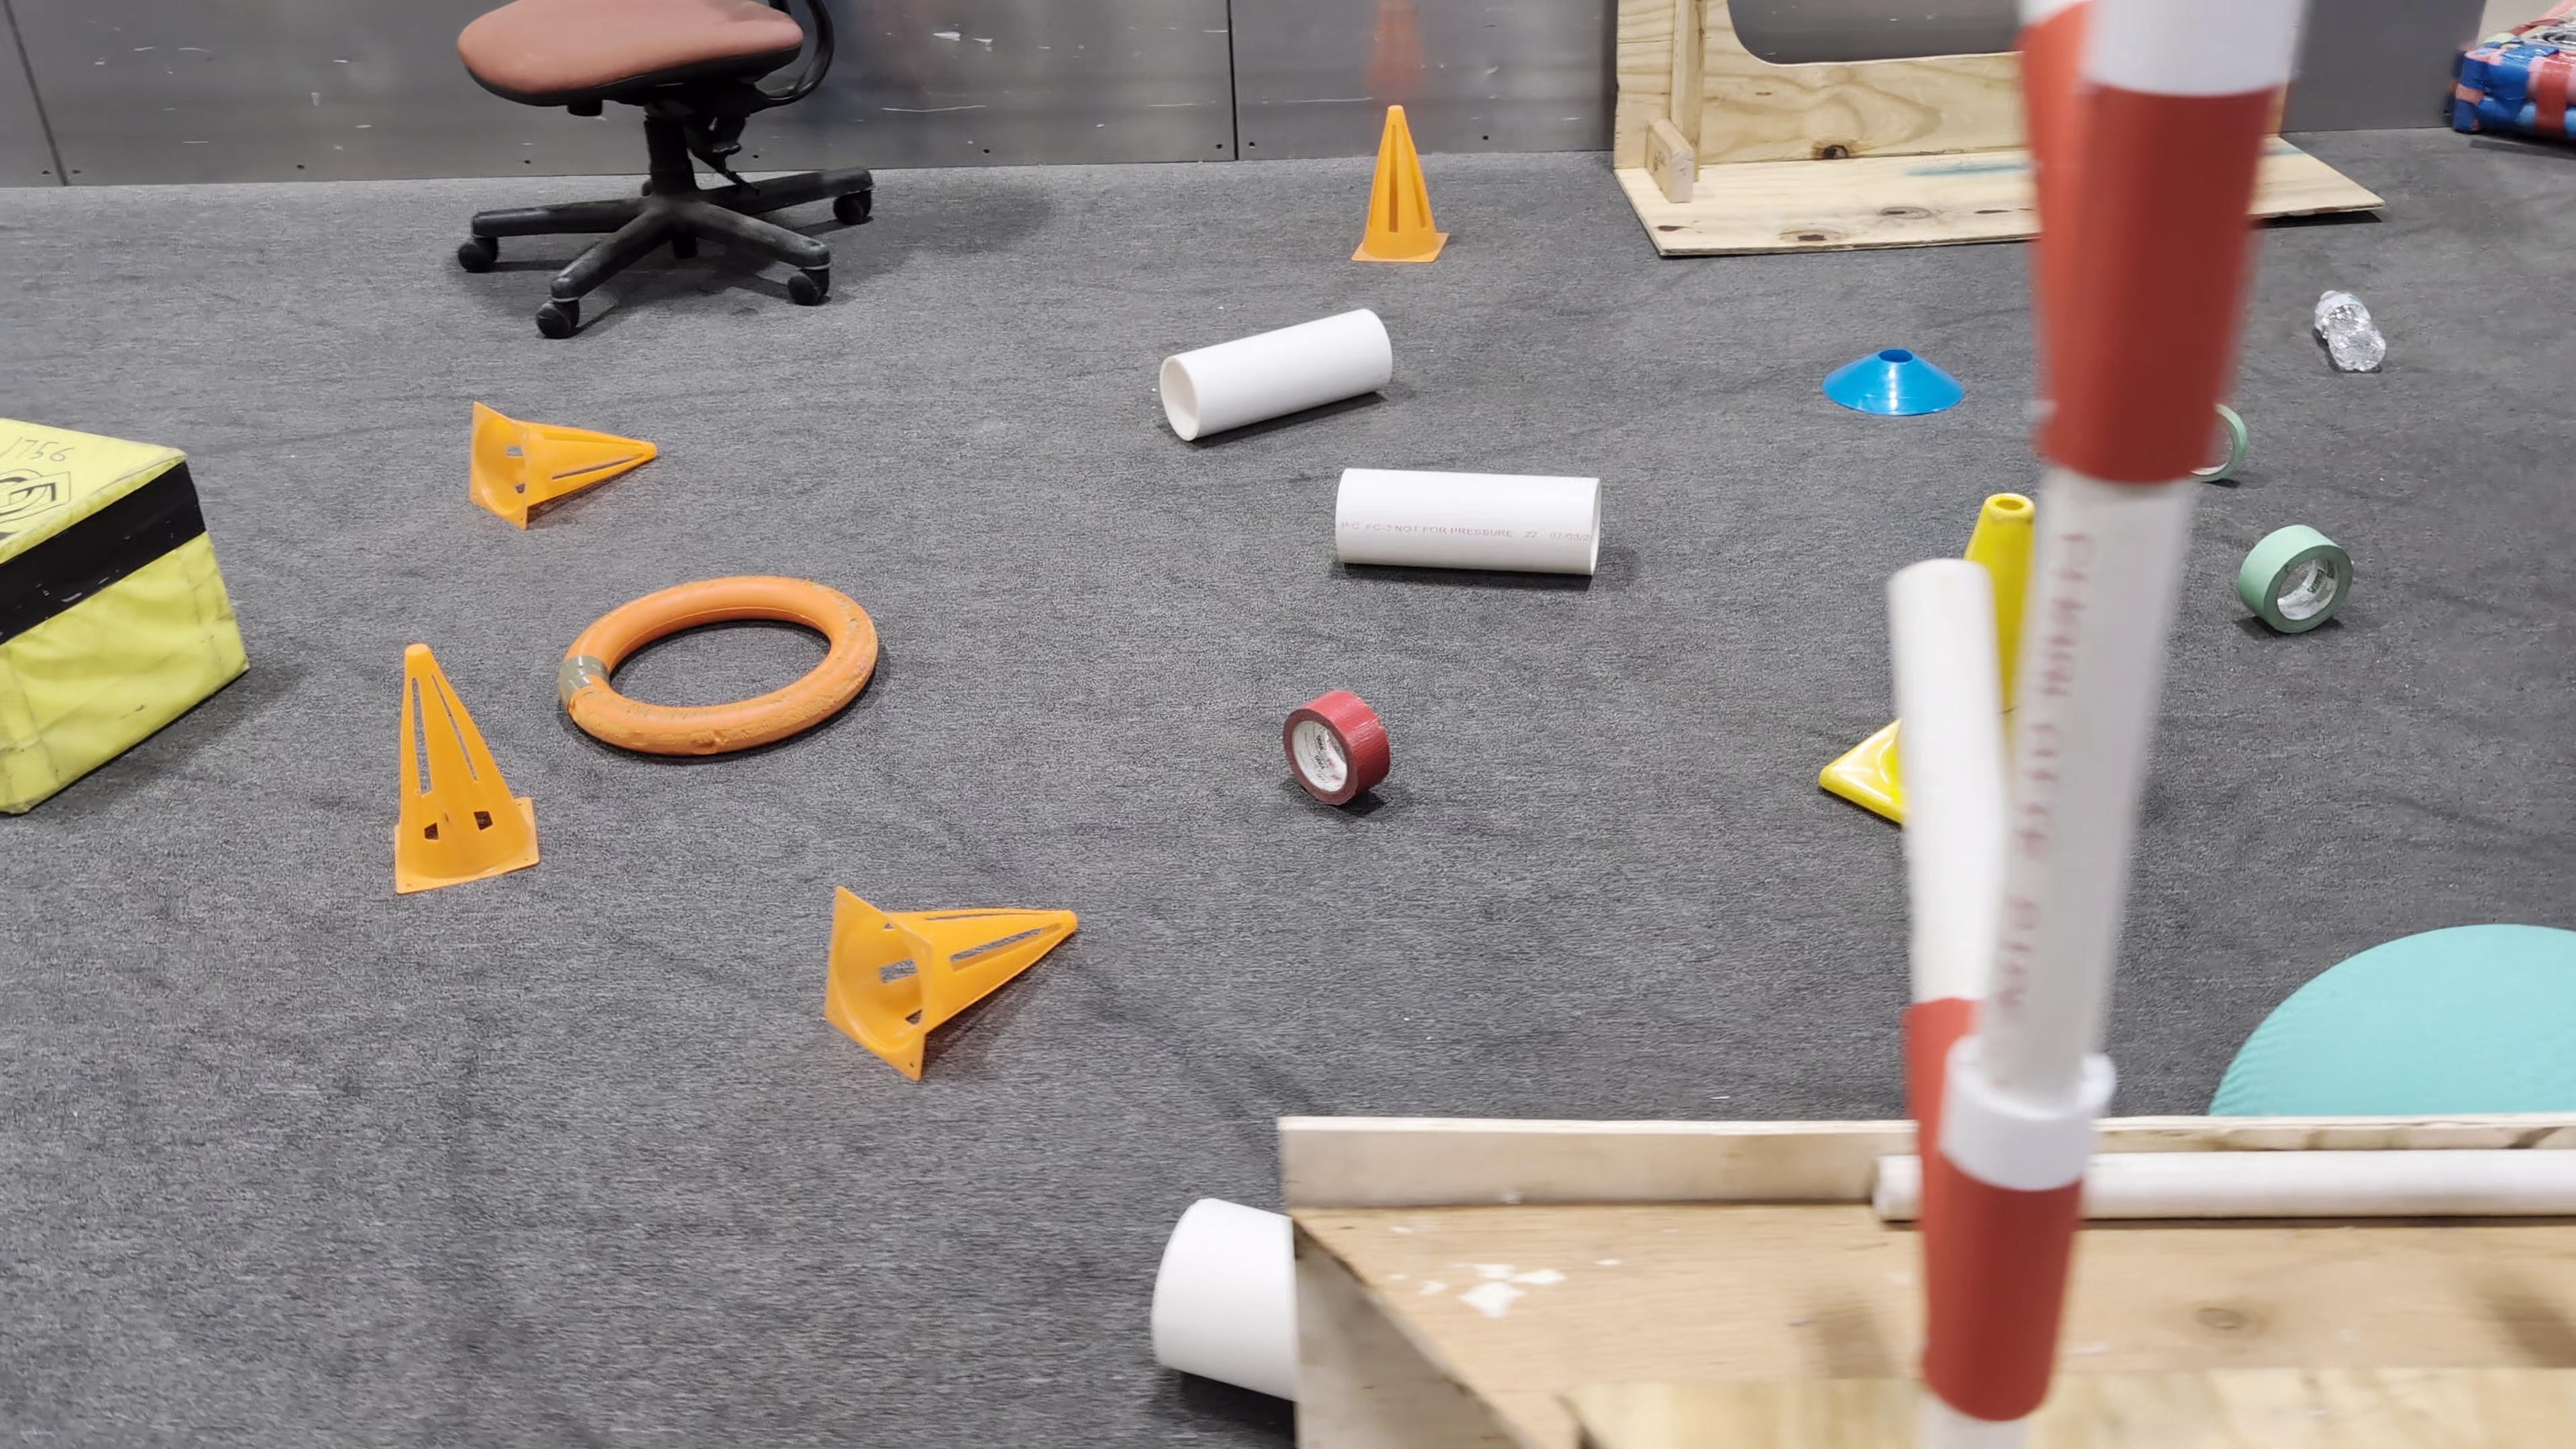coral: (1161, 310, 1392, 442), (1336, 467, 1603, 577)
